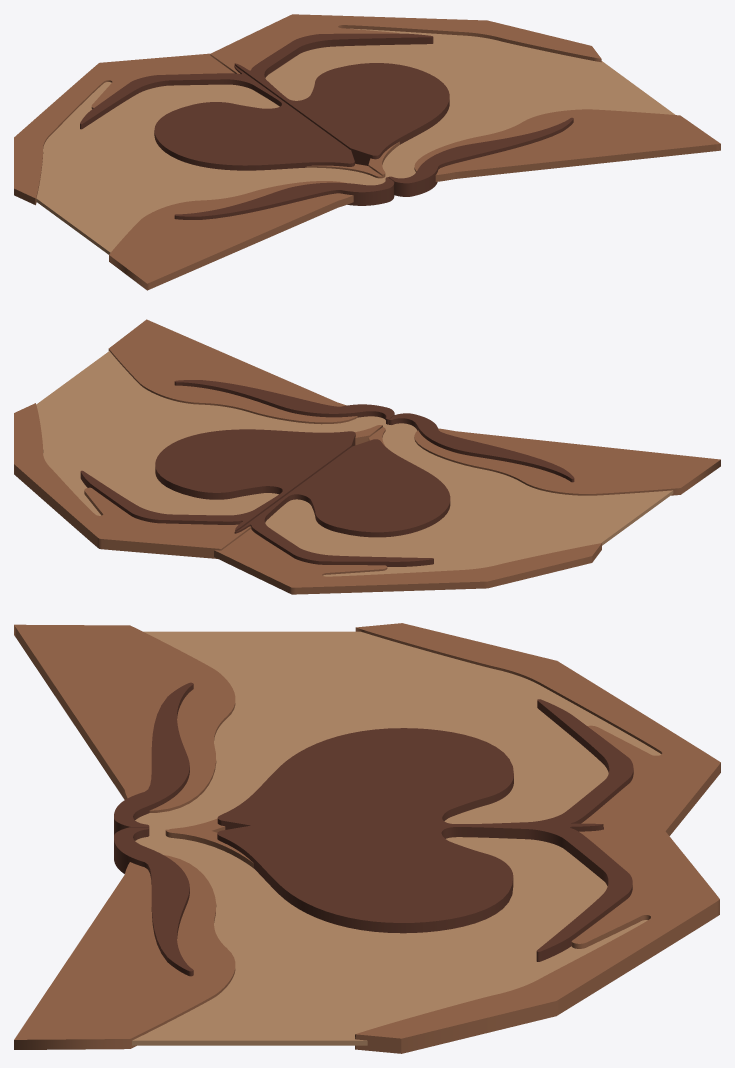
The model's file is emoji_u1faf6_1f3fd.glb.
3 renders of one model, top to bottom at view 1: azimuth 30°, elevation 25°; view 2: azimuth 150°, elevation 25°; view 3: azimuth 270°, elevation 25°, orthographic. The views are drawn at different scales.
Visible parts, largest first — view 1: emoji_u1faf6_1f3fd; view 2: emoji_u1faf6_1f3fd; view 3: emoji_u1faf6_1f3fd.
Part boxes in pixels (left/top/right/bottom): emoji_u1faf6_1f3fd: left=14, top=14, right=720, bottom=290; emoji_u1faf6_1f3fd: left=14, top=319, right=720, bottom=594; emoji_u1faf6_1f3fd: left=14, top=623, right=720, bottom=1053.
Size of the model in its own units: 0.0353 by 0.001 by 0.0252.
